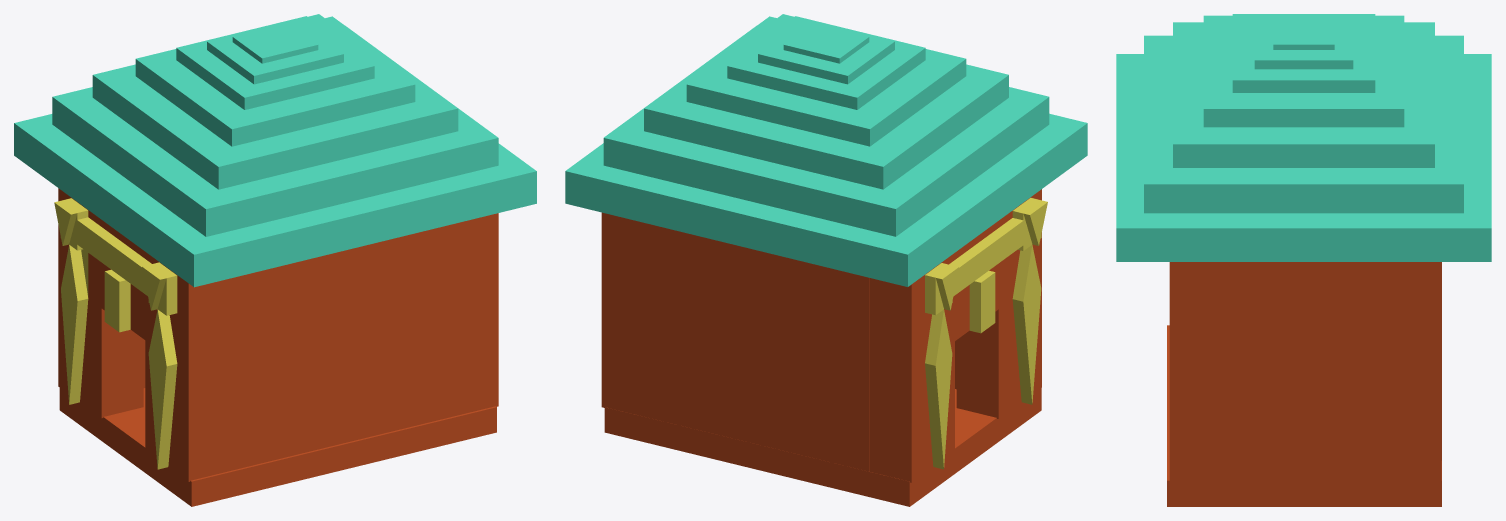
File: SimpleHouse.fbx
3 views of the same model, side by side, from view 1: azimuth 30°, elevation 25°; view 2: azimuth 150°, elevation 25°; view 3: azimuth 270°, elevation 25° (orthographic). The views are drawn at different scales.
Visible parts, largest first — view 1: Cube.004, Cube.010; view 2: Cube.004, Cube.010; view 3: Cube.010, Cube.004.
Boxes of the visible parts, box(x1,y1,x2,y2) form: Cube.004: box(54, 188, 498, 506); Cube.010: box(14, 14, 536, 287); Cube.004: box(601, 189, 1047, 506); Cube.010: box(565, 14, 1087, 286); Cube.010: box(1116, 14, 1491, 261); Cube.004: box(1167, 262, 1441, 506).
Bounding box in the file's own units: 303 × 322 × 276.
